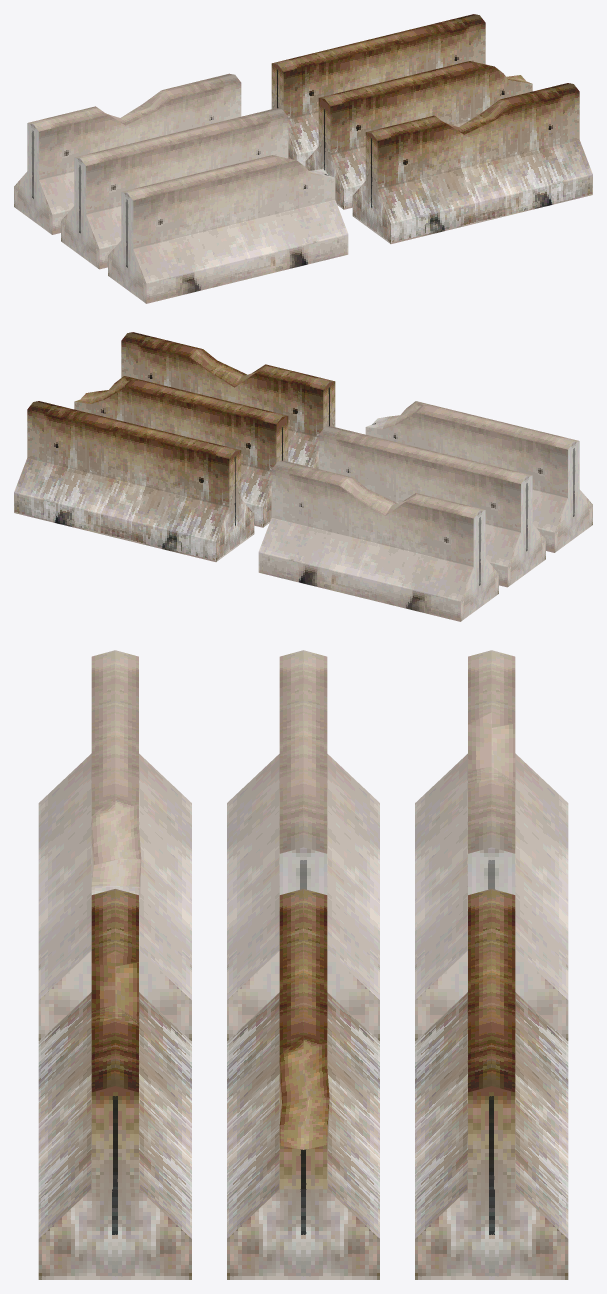
Rendered from psx_style_concrete_barriers.glb.
3 renders of one model, top to bottom at view 1: azimuth 30°, elevation 25°; view 2: azimuth 150°, elevation 25°; view 3: azimuth 270°, elevation 25°, orthographic. The views are drawn at different scales.
Parts seen in each view (by area): view 1: Jersey_barrier_broken_center_dirty, Jersey_barrier_broken_edge, Jersey_barrier, Jersey_barrier_broken_center, Jersey_barrier_broken_edge_dirty, Jersey_barrier_dirty; view 2: Jersey_barrier_dirty, Jersey_barrier_broken_center, Jersey_barrier, Jersey_barrier_broken_edge, Jersey_barrier_broken_edge_dirty, Jersey_barrier_broken_center_dirty; view 3: Jersey_barrier_broken_center_dirty, Jersey_barrier_dirty, Jersey_barrier_broken_edge_dirty, Jersey_barrier_broken_center, Jersey_barrier_broken_edge, Jersey_barrier.
Part boxes in pixels (box(x1,y1,x2,y2)): Jersey_barrier_broken_center_dirty: box(352, 83, 592, 243); Jersey_barrier_broken_edge: box(108, 155, 348, 303); Jersey_barrier: box(61, 108, 288, 269); Jersey_barrier_broken_center: box(14, 73, 241, 234); Jersey_barrier_broken_edge_dirty: box(305, 61, 532, 209); Jersey_barrier_dirty: box(271, 14, 485, 166); Jersey_barrier_dirty: box(14, 401, 254, 561); Jersey_barrier_broken_center: box(258, 460, 498, 621); Jersey_barrier: box(318, 426, 545, 587); Jersey_barrier_broken_edge: box(365, 401, 592, 552); Jersey_barrier_broken_edge_dirty: box(74, 376, 288, 527); Jersey_barrier_broken_center_dirty: box(121, 332, 335, 468); Jersey_barrier_broken_center_dirty: box(38, 889, 191, 1279); Jersey_barrier_dirty: box(415, 889, 568, 1279); Jersey_barrier_broken_edge_dirty: box(227, 889, 379, 1279); Jersey_barrier_broken_center: box(415, 650, 568, 1041); Jersey_barrier_broken_edge: box(38, 650, 191, 1041); Jersey_barrier: box(227, 650, 379, 1041).
Size of the model in its own units: 5.48 by 1.14 by 2.81.
1 material, 1 textured.
